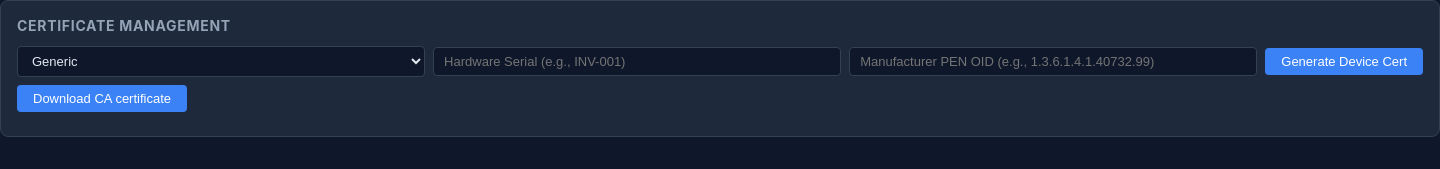
Test case: CertPanel › saves the CA as a PEM file, not as the JSON envelope the route returns
Check: the dropdown with id "deviceType" is enabled, box [17, 46, 425, 77]
Click the button with test id "download-ca".
click(102, 98)  # box [17, 85, 187, 112]
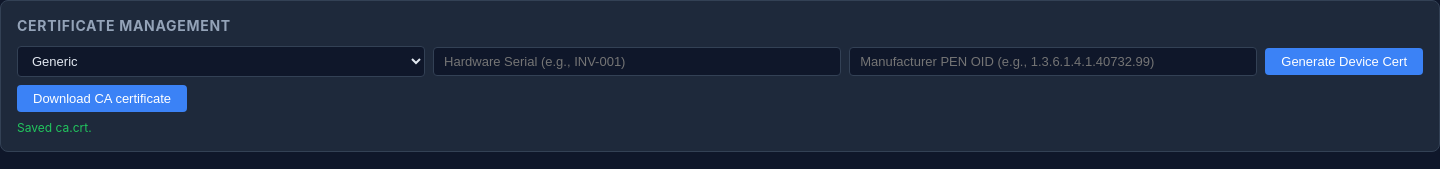
Check: the text with test id "ca-result" reads "Saved ca.crt.", box [17, 120, 92, 135]
